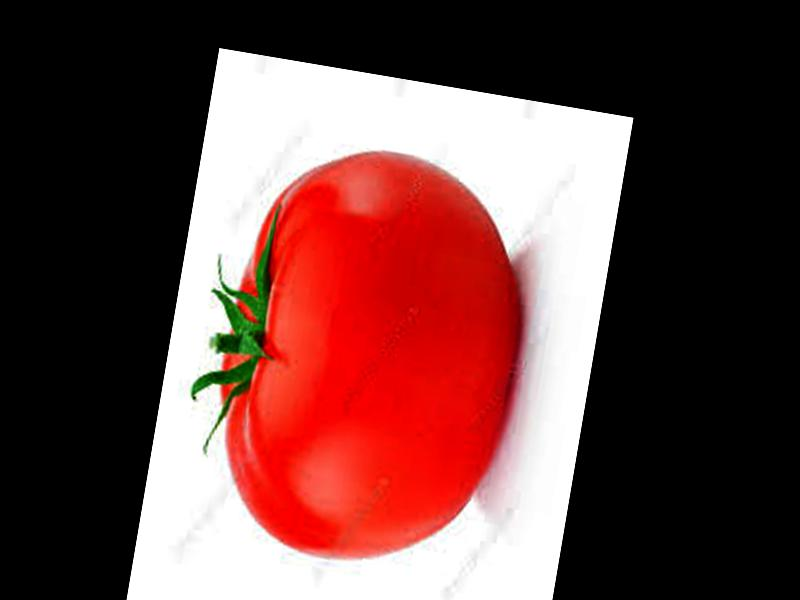Tomato: (195, 130, 537, 581)
